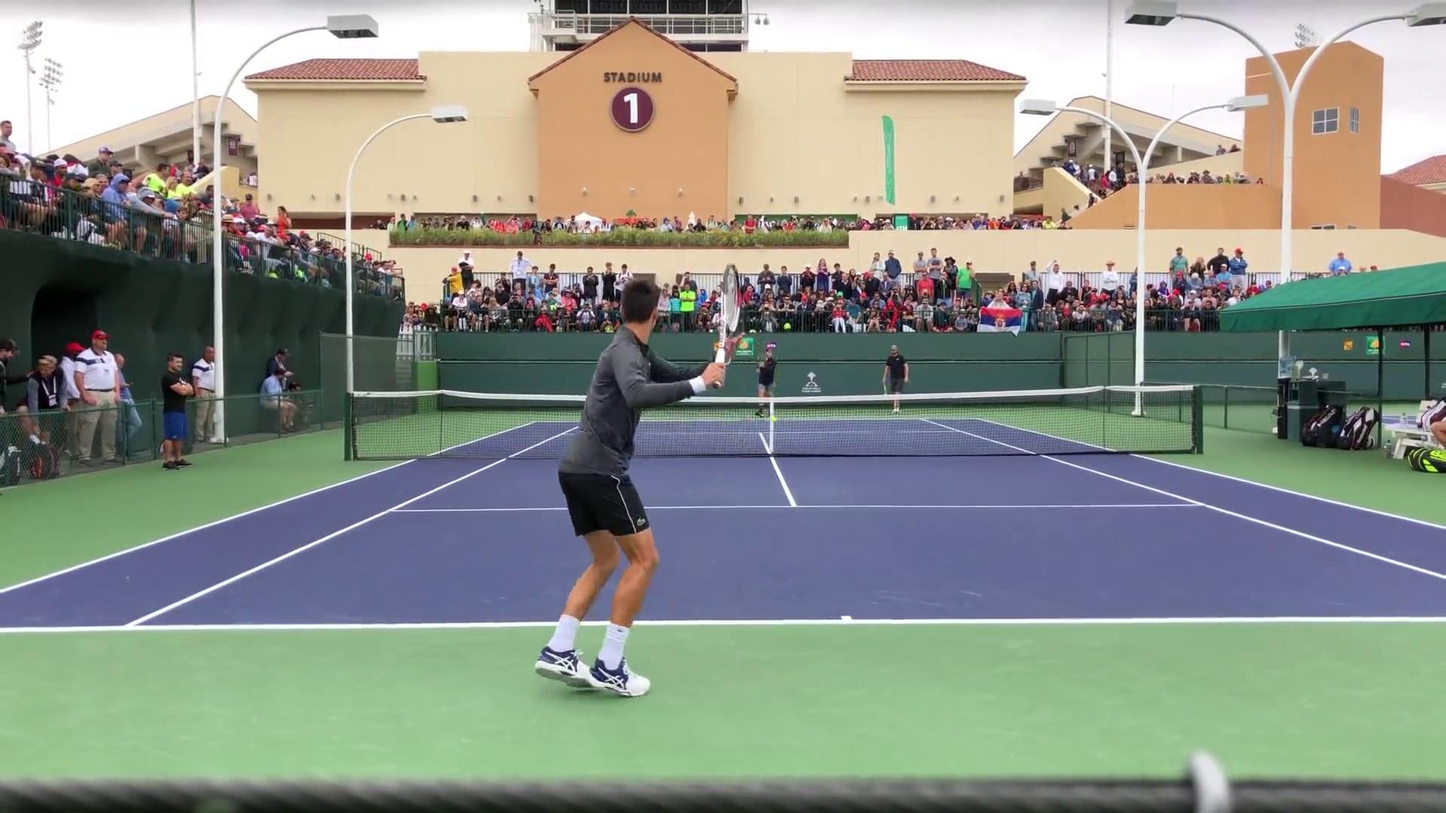ball: (770, 416, 777, 422)
